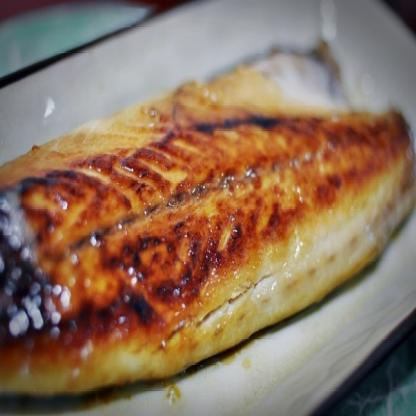Peixe: (0, 43, 416, 405)
